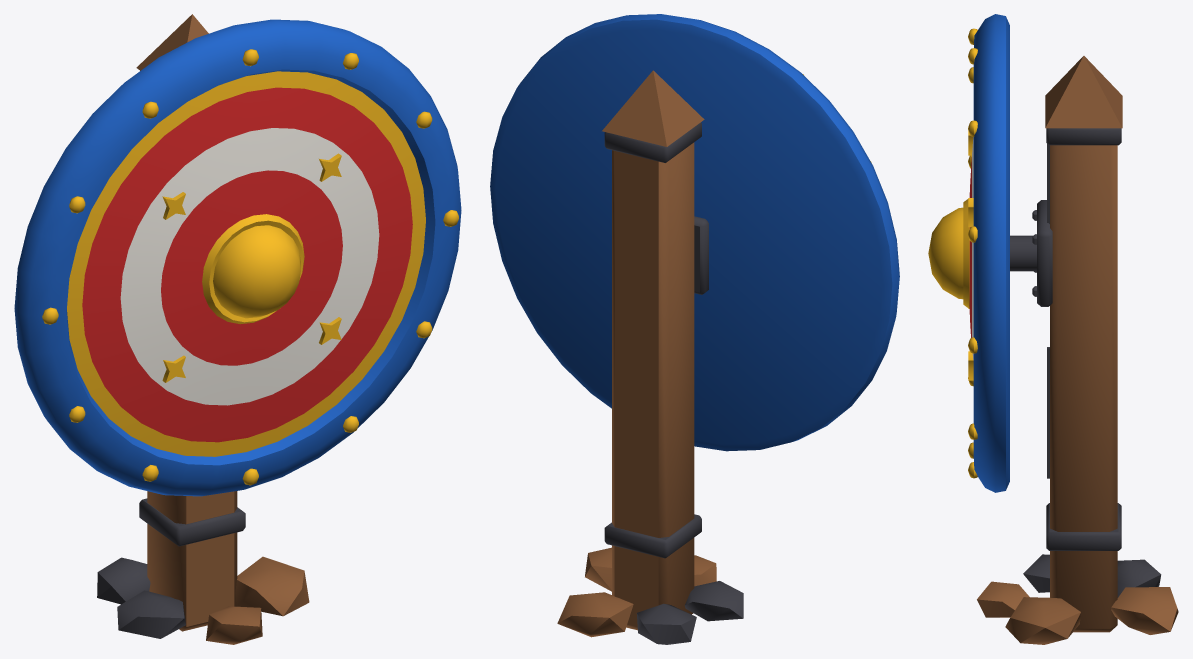
The model's file is shield_sign.glb.
3 views of the same model, side by side, from view 1: azimuth 30°, elevation 25°; view 2: azimuth 150°, elevation 25°; view 3: azimuth 270°, elevation 25° (orthographic). The views are drawn at different scales.
Visible parts, largest first — view 1: shield, body; view 2: shield, body; view 3: body, shield.
Boxes of the visible parts, x1,y1,x2,y2 form: shield: (14,19,461,496); body: (97,14,309,644); shield: (490,14,899,451); body: (557,70,743,644); body: (977,56,1178,644); shield: (928,14,1009,492).
Size of the model in its own units: 0.924 by 1.24 by 0.4811.
